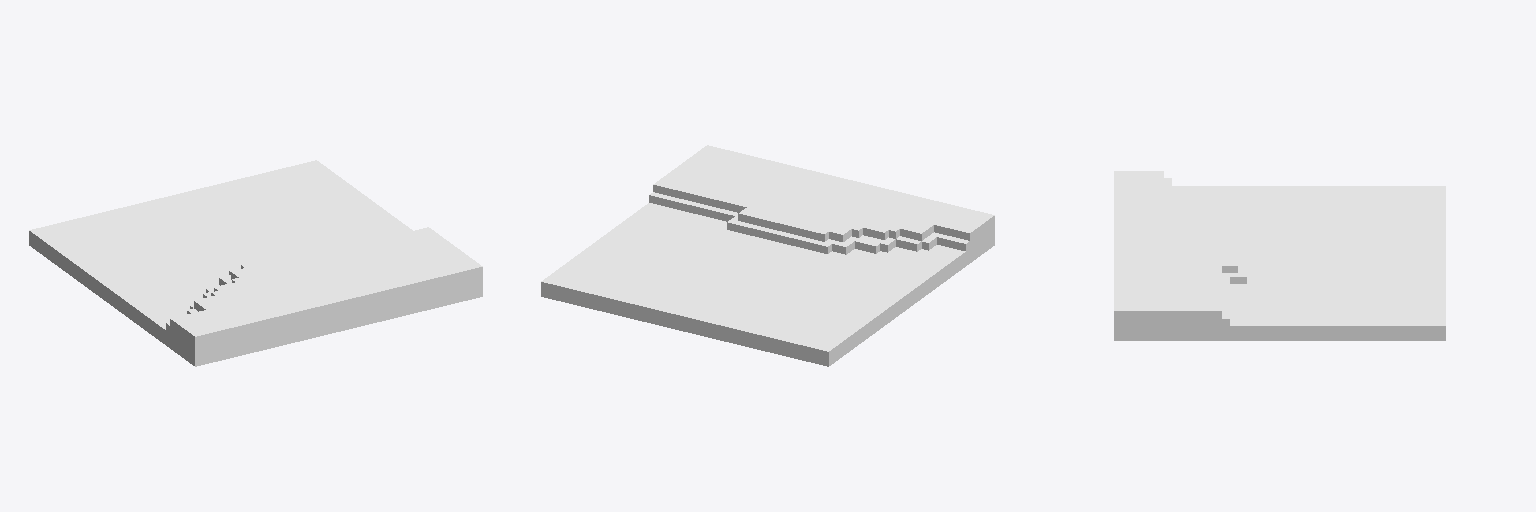
The model's file is river3-8.obj.
The picture shows the model from 3 angles: view 1: azimuth 30°, elevation 25°; view 2: azimuth 150°, elevation 25°; view 3: azimuth 270°, elevation 25°; orthographic projection.
Visible parts, largest first — view 1: object 1; view 2: object 1; view 3: object 1.
Boxes of the visible parts, <box> form: object 1: <box>29,160,482,366</box>; object 1: <box>541,145,994,366</box>; object 1: <box>1114,171,1445,340</box>.
Bounding box in the file's own units: 4 × 0.4 × 4.